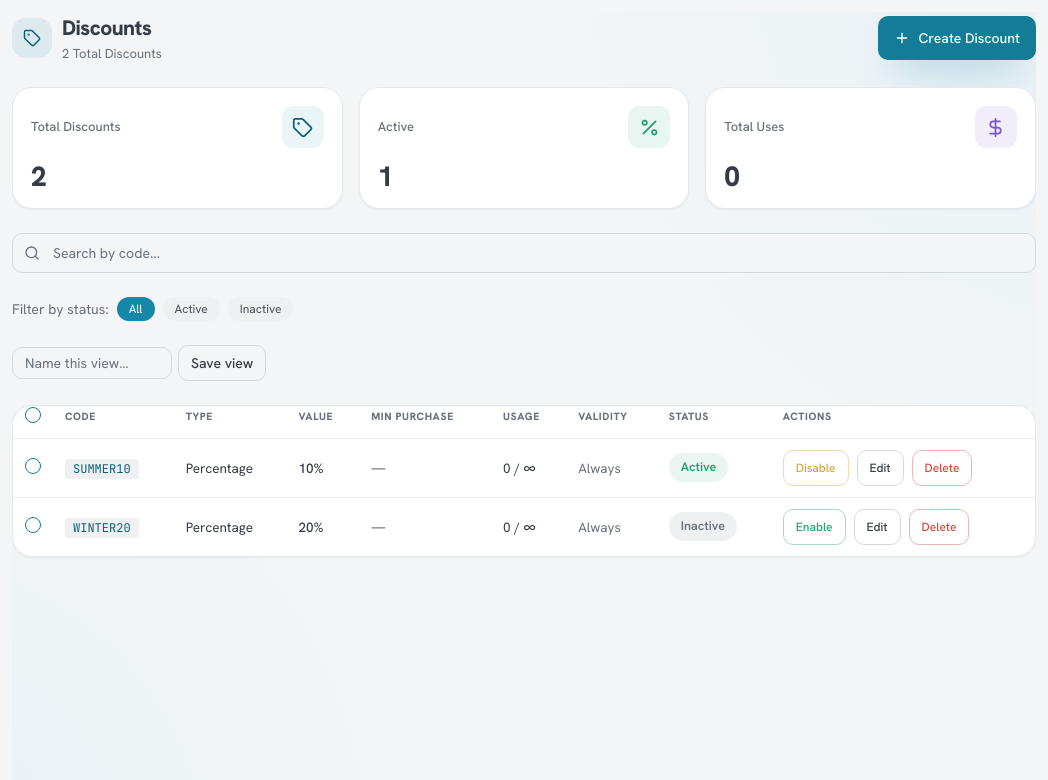
Scenario: DiscountManagement saved filters (#273) › saves the current search combination and re-applies it in one click
The width and height of the screenshot is (1048, 780).
Check: the text "SUMMER10" is shown, box x1=65 y1=459 x2=139 y2=479
// Narrow the book to the summer code, then pin that view under a name.
In the search field with placeholder "Search by code...": {"x": 524, "y": 253} x1=12 y1=233 x2=1036 y2=273, type "SUMMER"
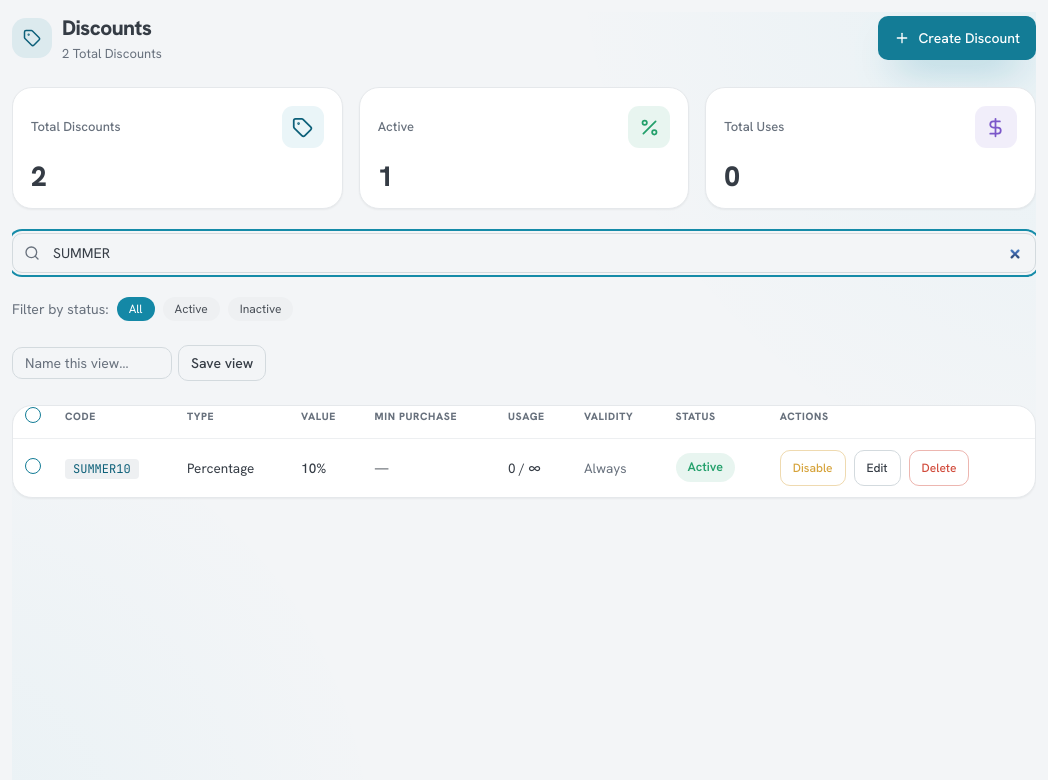
Check: the text "WINTER20" is gone
In the field with placeholder "Name this view…": {"x": 92, "y": 363} x1=12 y1=347 x2=172 y2=379, type "Seasonal"
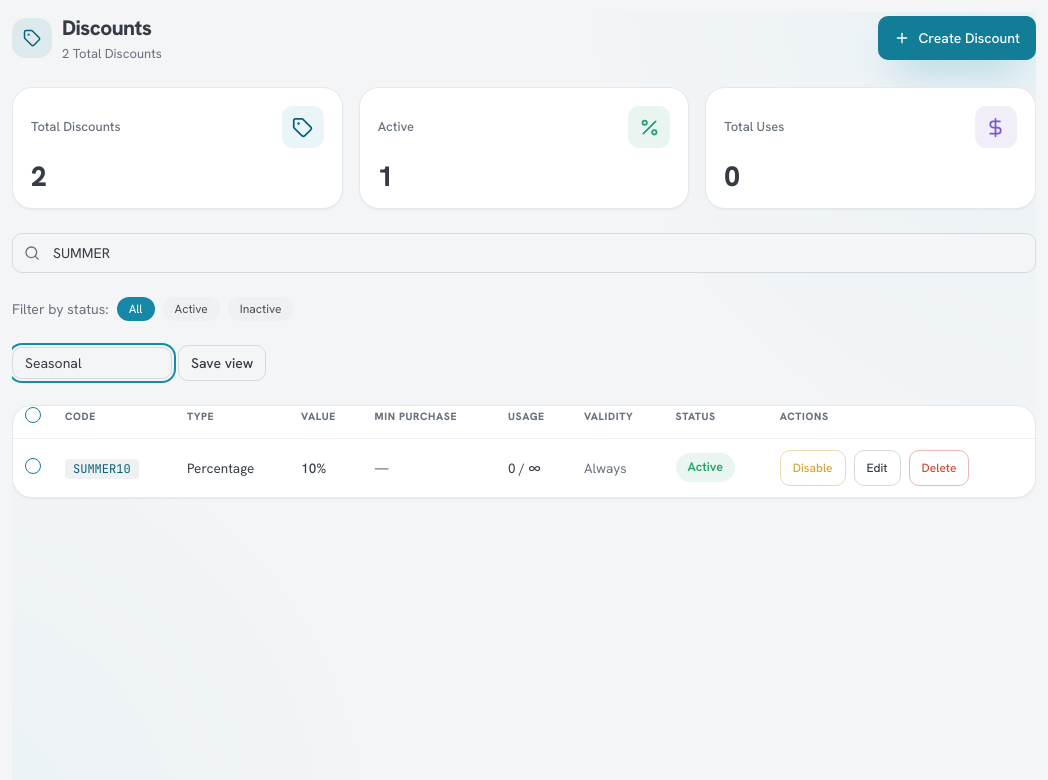
Click the button "Save view": {"x": 222, "y": 363} x1=178 y1=345 x2=266 y2=381
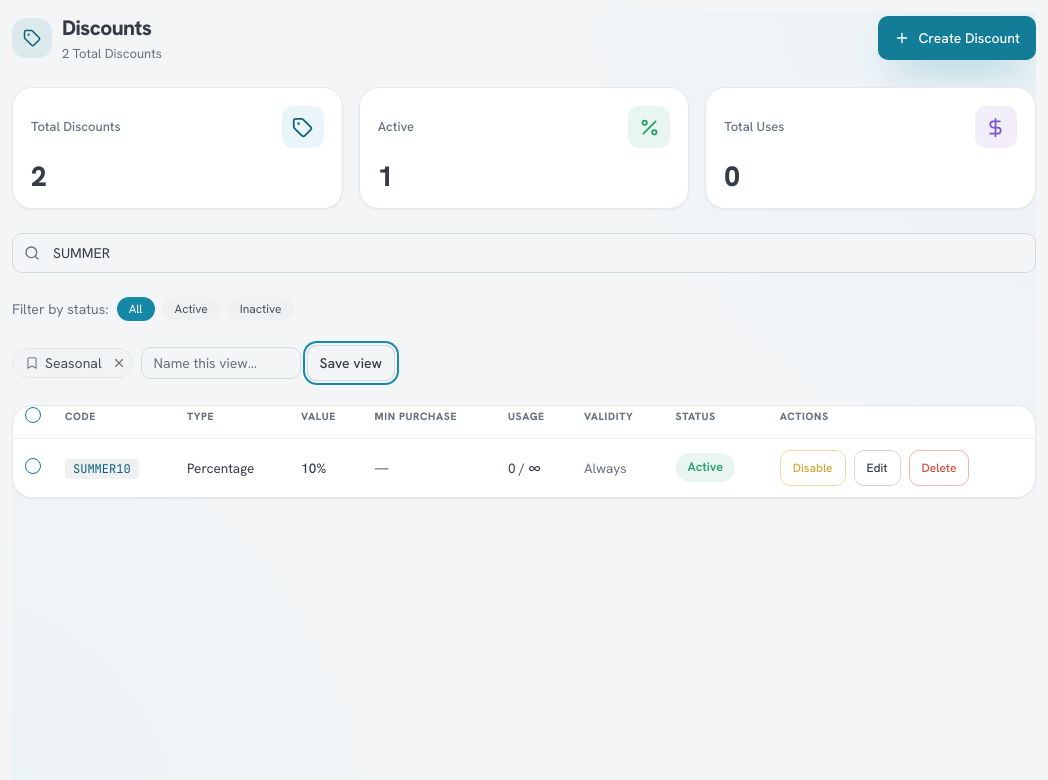
// Clear the search — both discounts return.
Clear the search field with placeholder "Search by code...": {"x": 524, "y": 253} x1=12 y1=233 x2=1036 y2=273
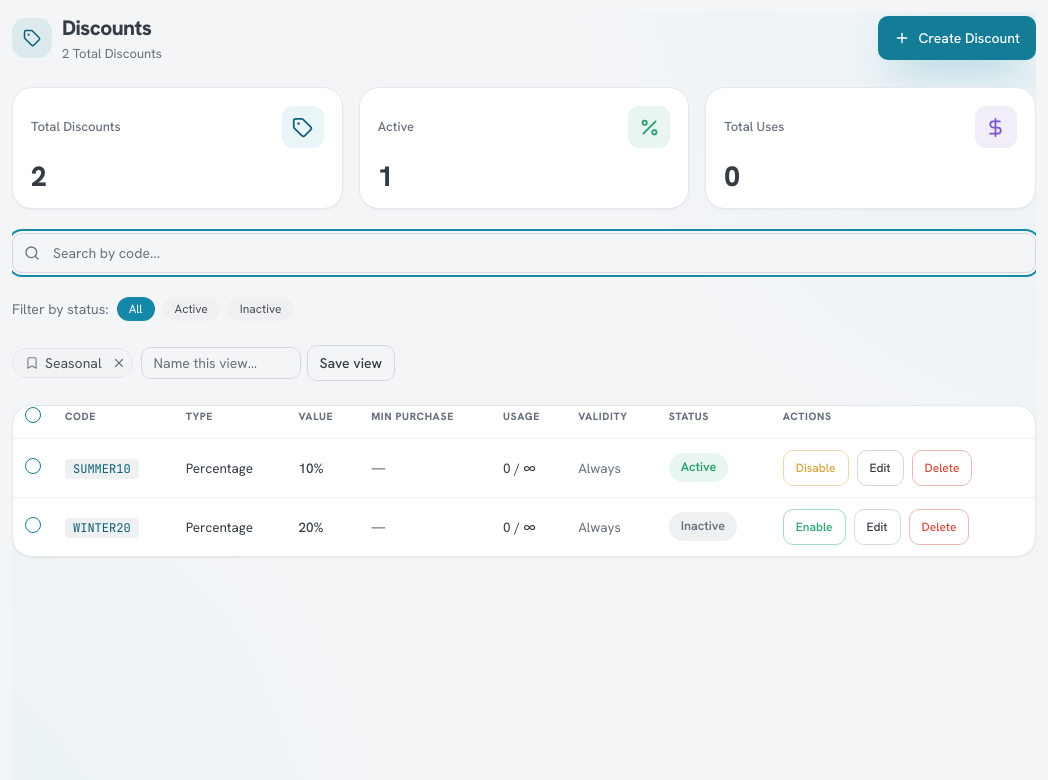
Check: the text "WINTER20" is shown, box x1=65 y1=518 x2=139 y2=538
// One click on the saved chip restores the search and its filtering.
Click the button with aria-label "apply saved view Seasonal": {"x": 60, "y": 363} x1=13 y1=349 x2=108 y2=377
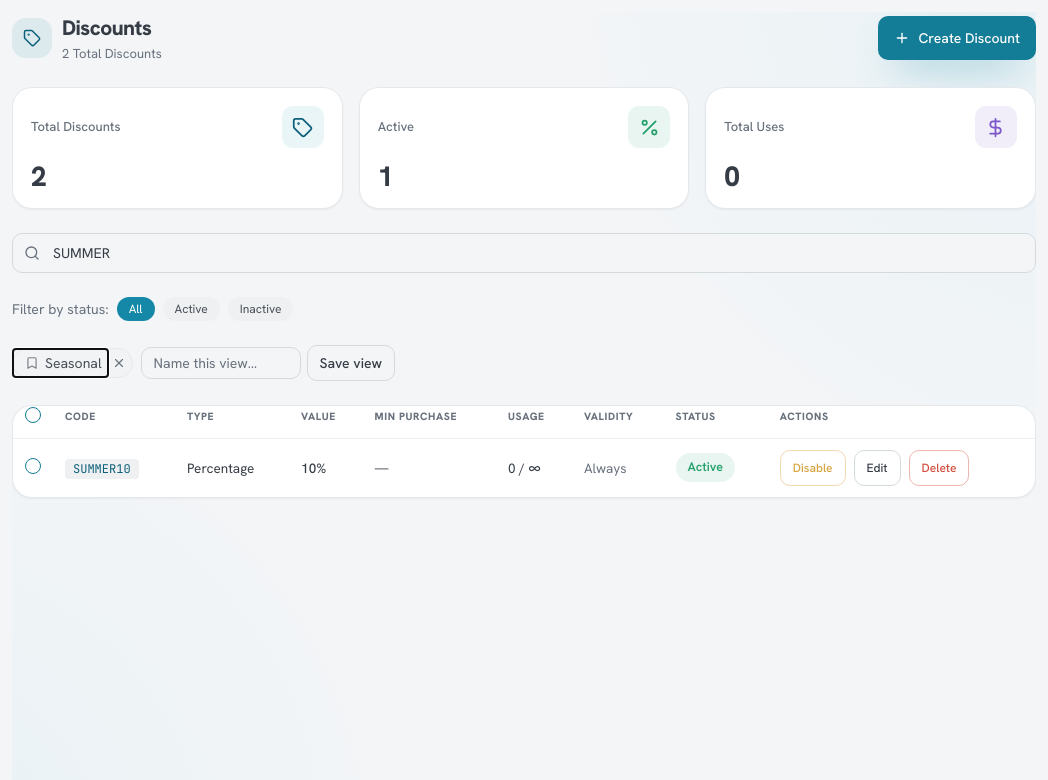
Check: the text "SUMMER10" is shown, box x1=65 y1=459 x2=139 y2=479
Check: the text "WINTER20" is gone
